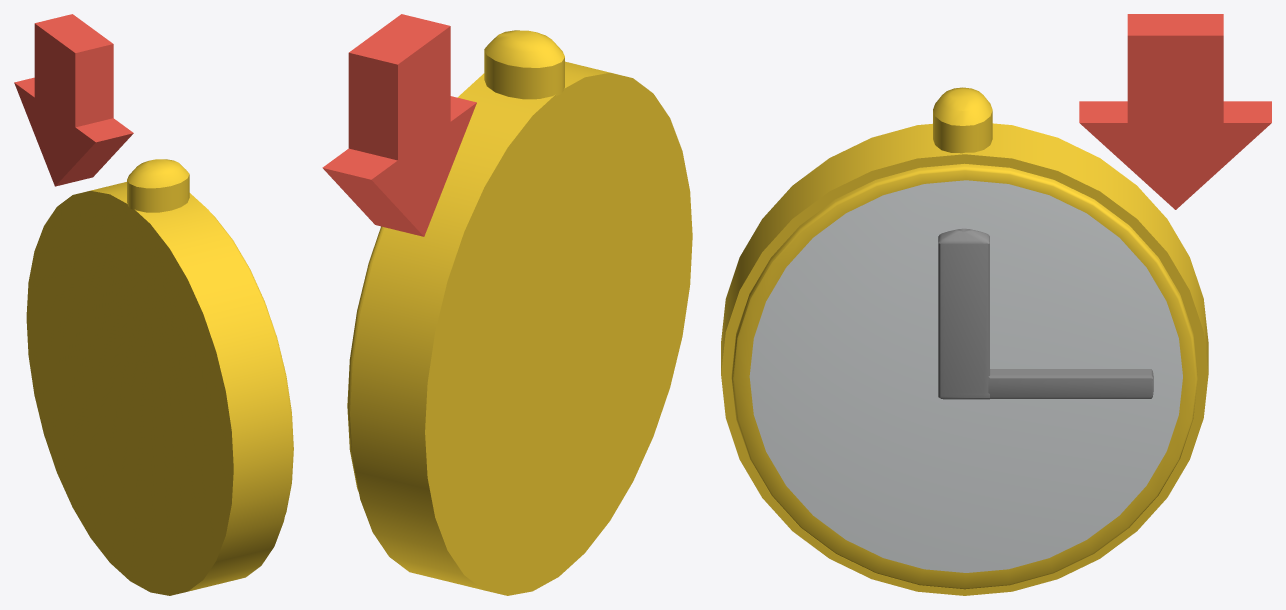
The model's file is clock2.fbx.
3 views of the same model, side by side, from view 1: azimuth 30°, elevation 25°; view 2: azimuth 150°, elevation 25°; view 3: azimuth 270°, elevation 25° (orthographic). The views are drawn at different scales.
Visible parts, largest first — view 1: Circle.002; view 2: Circle.002; view 3: Circle.002.
Part boxes in pixels (left/top/right/bottom): Circle.002: left=14, top=14, right=293, bottom=595; Circle.002: left=322, top=14, right=692, bottom=595; Circle.002: left=721, top=14, right=1271, bottom=595.
Bounding box in the file's own units: 0.1416 × 0.7843 × 0.7029.
